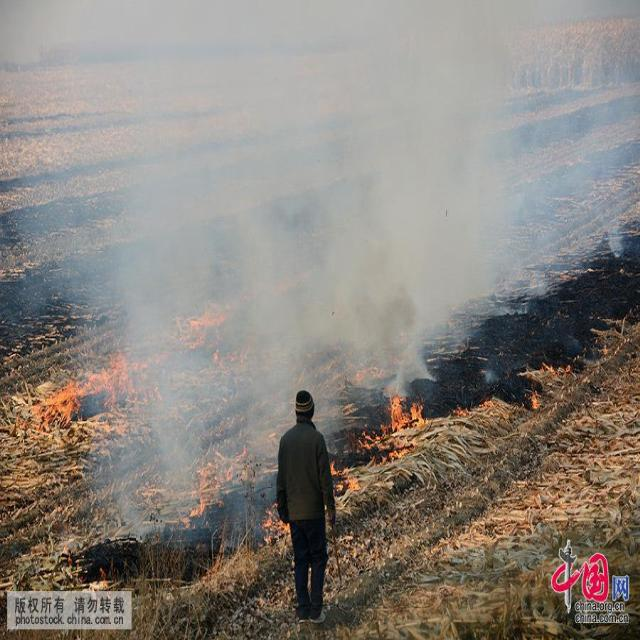fire: (20, 321, 152, 425), (169, 300, 245, 370), (368, 389, 430, 466), (190, 442, 247, 502), (330, 452, 356, 502), (260, 497, 291, 538), (452, 393, 497, 419), (526, 381, 548, 414)
smoke: (318, 51, 449, 344), (127, 196, 190, 401), (235, 216, 298, 374)
